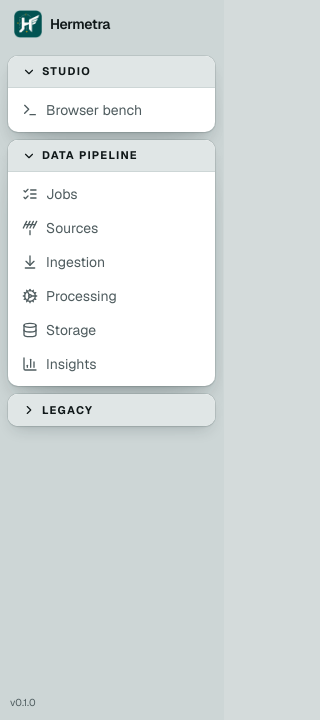
Sidebar — the Data Pipeline drawer › starts open and folds away on its own key
The width and height of the screenshot is (320, 720).
Click the button with test id "nav-pipeline-toggle". click: (112, 156)
box: left=8, top=140, right=215, bottom=172
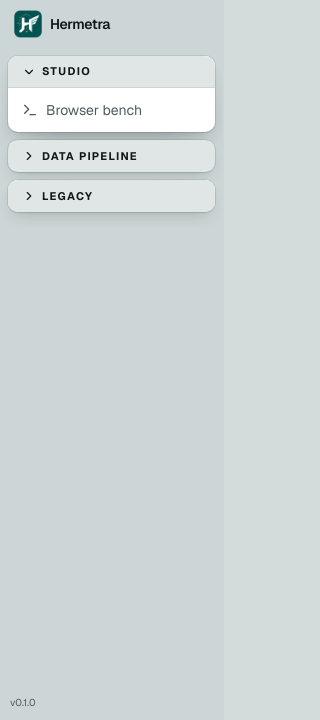
Check: the link with test id "nav-pipeline-jobs" is gone
